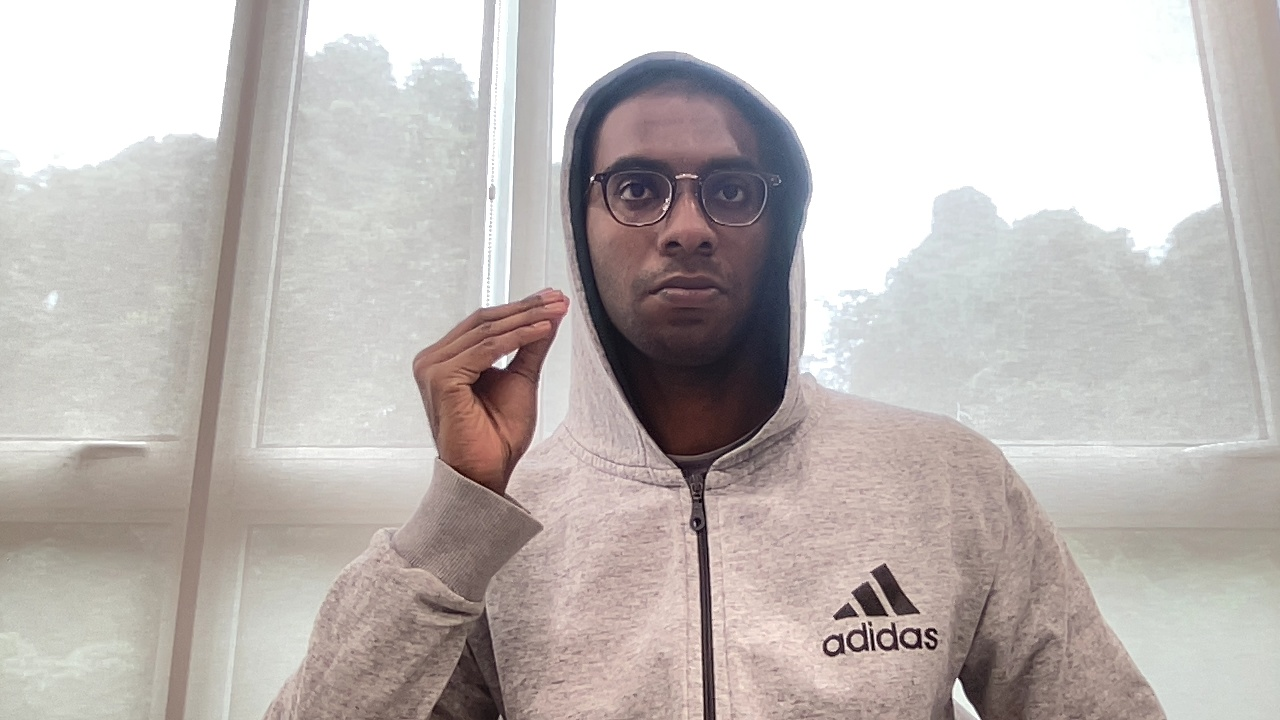eat: (404, 282, 578, 467)
